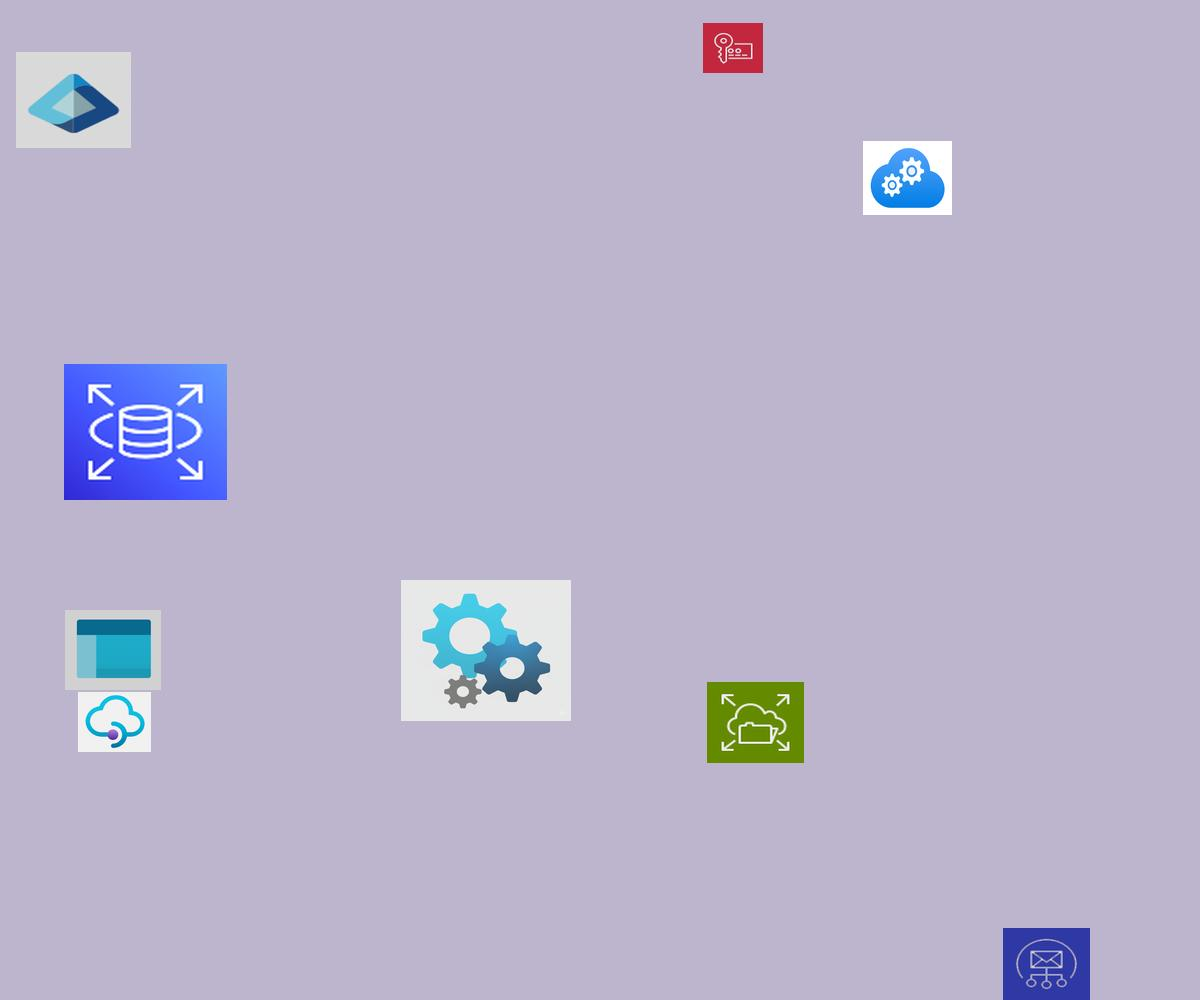AWS-EFS: (707, 682, 804, 763)
AWS-Key-Management-Service: (703, 23, 763, 73)
AWS-RDS: (64, 364, 227, 500)
AWS-Simple-Email-Service: (1003, 928, 1090, 1000)
Azure_api: (401, 580, 571, 721)
Azure_api_gateway: (78, 692, 151, 752)
Azure_cloud_services: (863, 141, 952, 215)
Azure_management-portal: (65, 610, 161, 690)
Azure_microsoft_entra: (16, 52, 131, 148)
